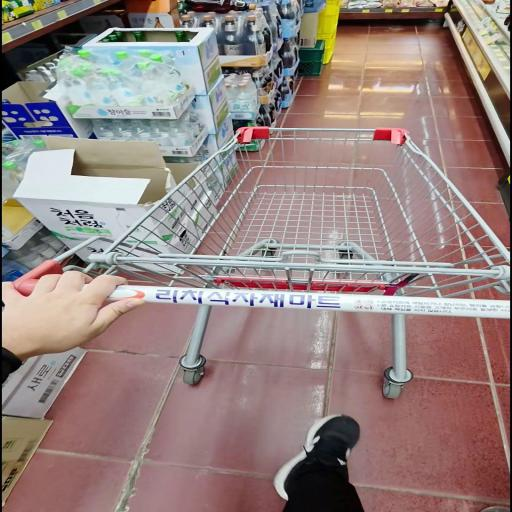empty_cart: (0, 123, 512, 395)
